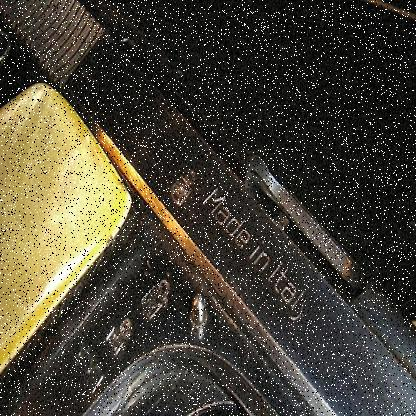pistol: (7, 3, 413, 406)
